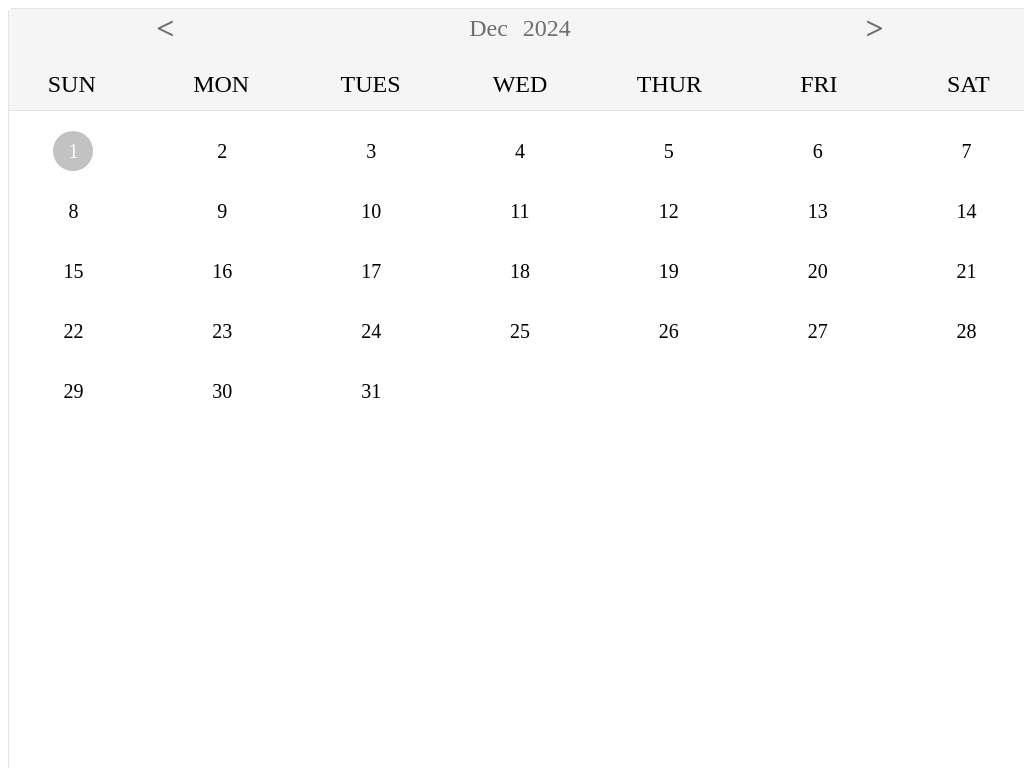
Calendar Component › should go to January when clicking on right arrow from December and increment year
Check: the text "Dec" is shown, box x1=469 y1=15 x2=508 y2=41
// Click on the right arrow to change the month
Click the text ">" at coordinates (874, 28), box x1=865 y1=10 x2=884 y2=47
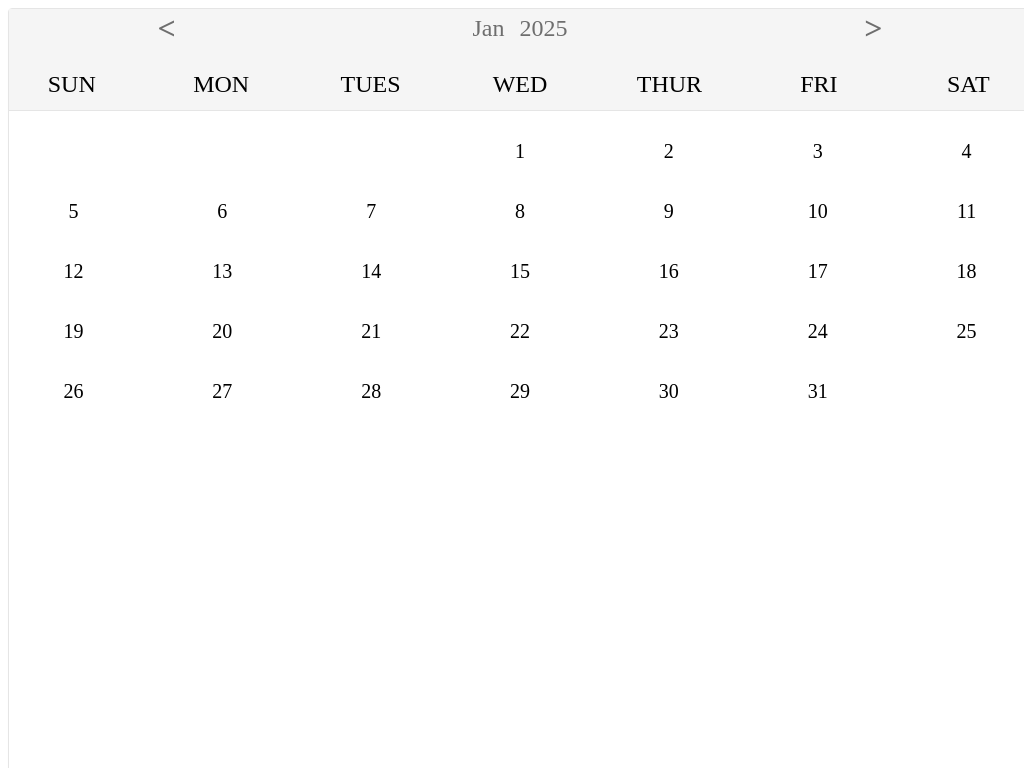
Check: the text "Jan" is shown, box x1=472 y1=15 x2=504 y2=41
